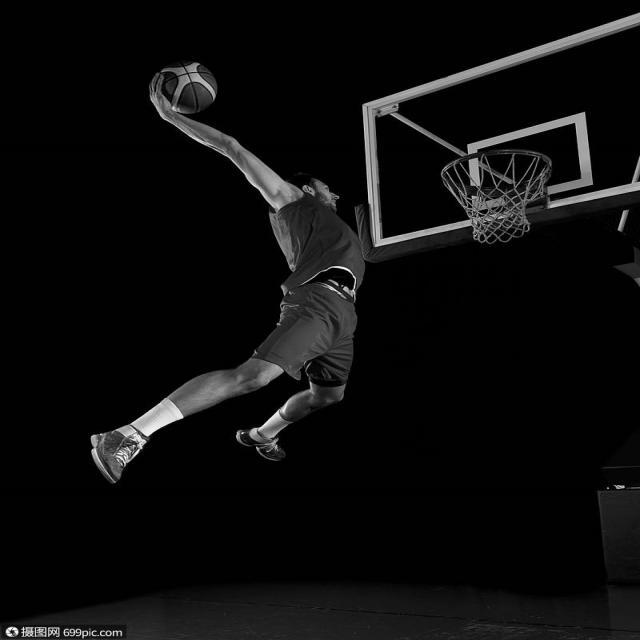rim: (159, 59, 216, 112)
